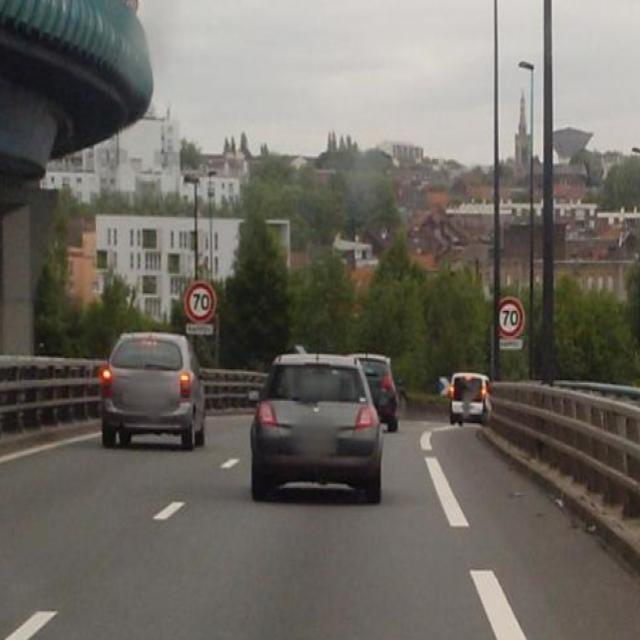speed_70: (186, 280, 217, 319), (497, 298, 524, 337)
